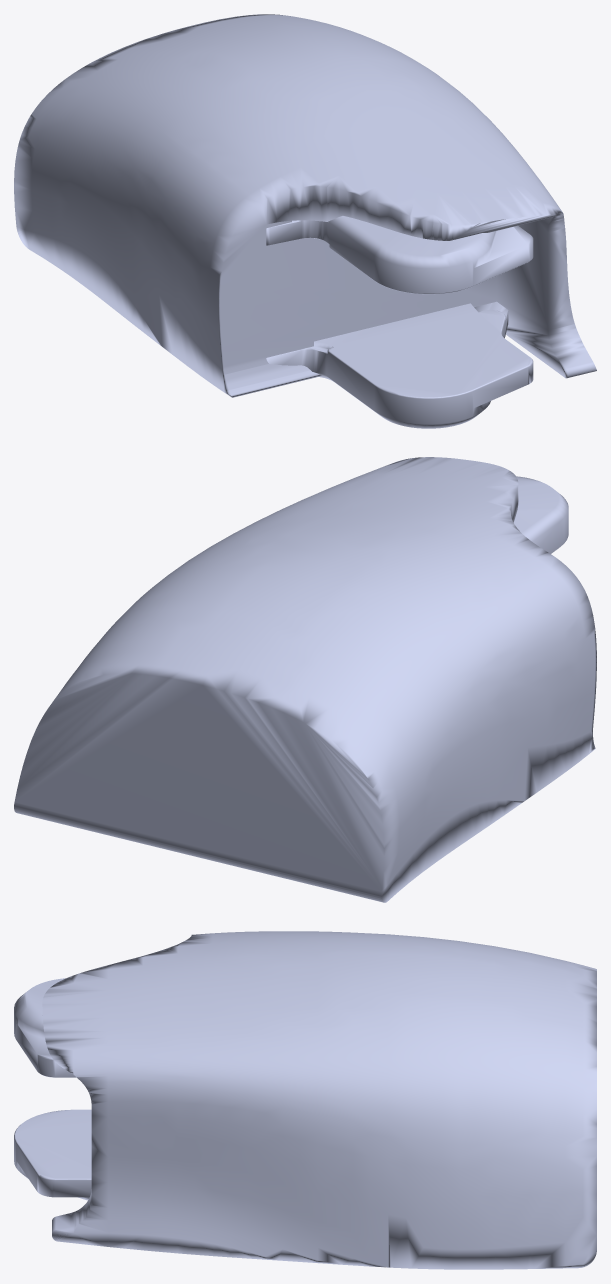
The model's file is right_pinky_MC_visual_cad1ee.glb.
3 renders of one model, top to bottom at view 1: azimuth 30°, elevation 25°; view 2: azimuth 150°, elevation 25°; view 3: azimuth 270°, elevation 25°, orthographic. The views are drawn at different scales.
Visible parts, largest first — view 1: right_pinky_MC_visual_0; view 2: right_pinky_MC_visual_0; view 3: right_pinky_MC_visual_0.
Part boxes in pixels (<box>): right_pinky_MC_visual_0: <box>14,14,596,428</box>; right_pinky_MC_visual_0: <box>14,457,596,902</box>; right_pinky_MC_visual_0: <box>14,931,596,1269</box>.
Bounding box in the file's own units: 0.0445 × 0.0251 × 0.0623.
